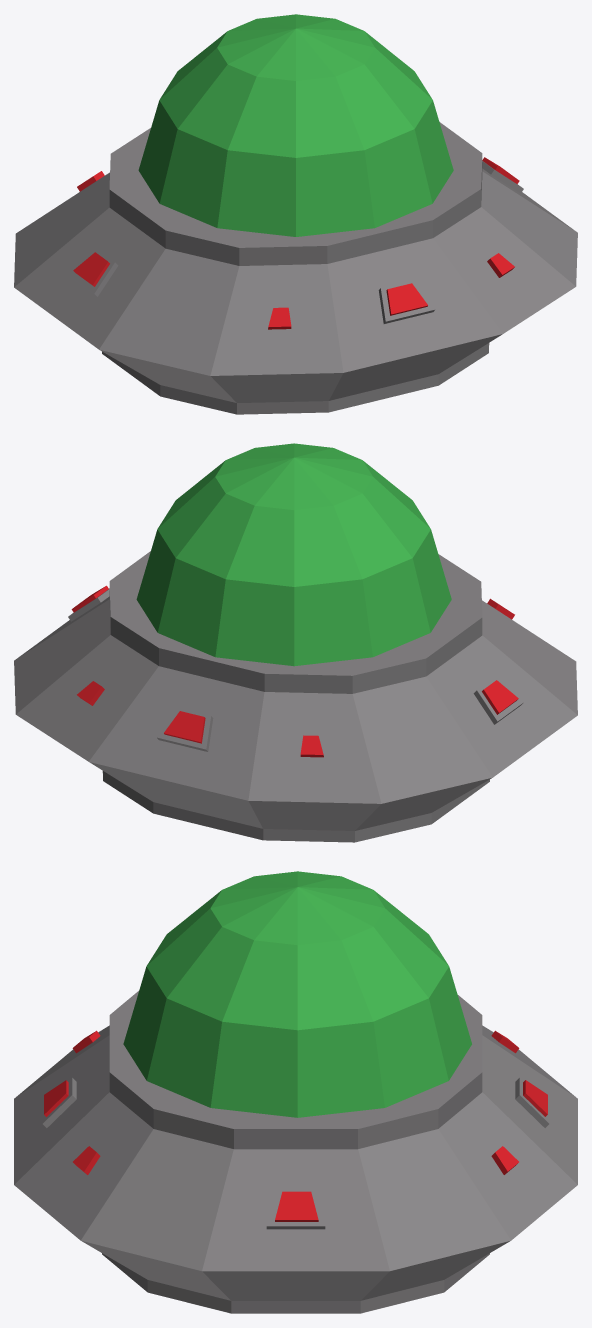
File: ufo_02.fbx
The picture shows the model from 3 angles, top to bottom: view 1: azimuth 30°, elevation 25°; view 2: azimuth 150°, elevation 25°; view 3: azimuth 270°, elevation 25°; orthographic projection. The views are drawn at different scales.
Visible parts, largest first — view 1: Ufo02; view 2: Ufo02; view 3: Ufo02.
Boxes of the visible parts, x1,y1,x2,y2 form: Ufo02: (14,14,577,414); Ufo02: (14,443,577,842); Ufo02: (14,871,577,1313).
Size of the model in its own units: 71.13 by 43.35 by 65.55.
